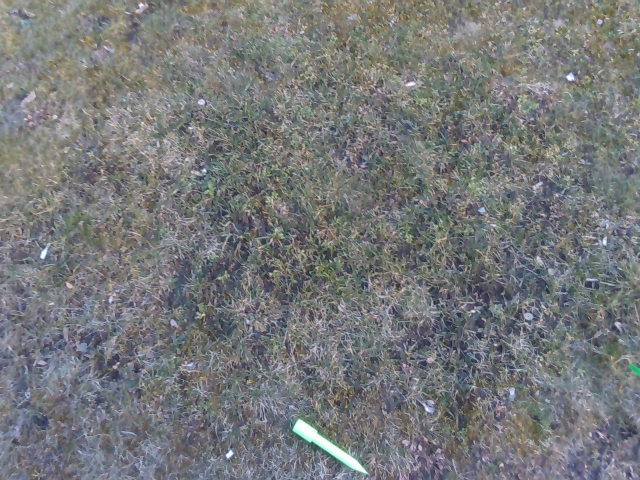Probe: (289, 415, 371, 480)
